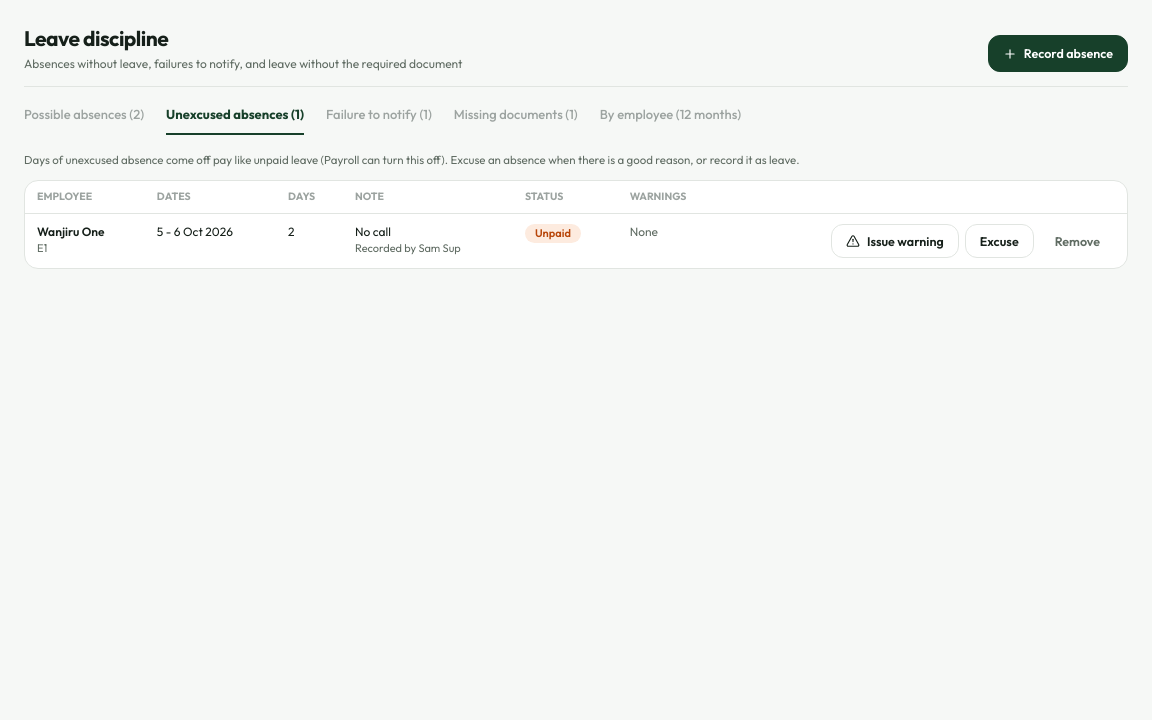
Test: Possible absences › lists runs of days with no clock-in, the notice sent, and leave applied for
Click the button "Possible absences (2)": (84, 120) [24,105,144,134]
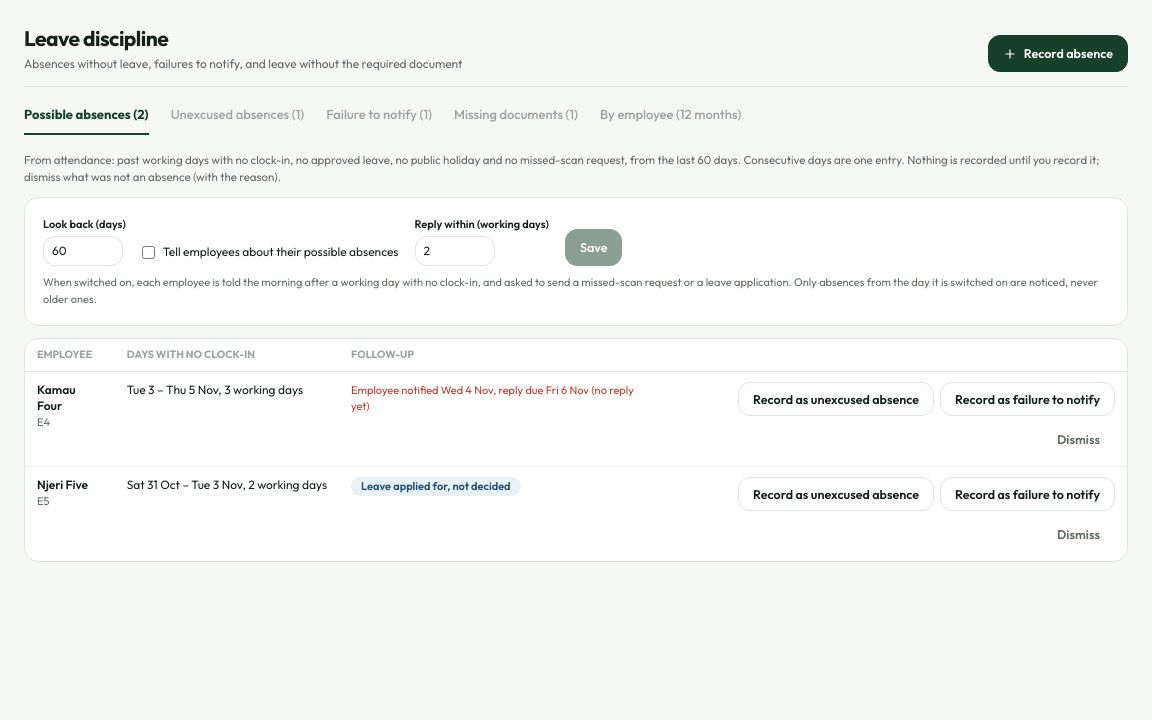
Expected: the text "Tue 3 – Thu 5 Nov, 3 working days" is shown, [115,371,339,466]
Expected: the text "Sat 31 Oct – Tue 3 Nov, 2 working days" is shown, [115,466,339,561]
Expected: the text "Employee notified Wed 4 Nov, reply due Fri 6 Nov" is shown, [351,383,589,397]
